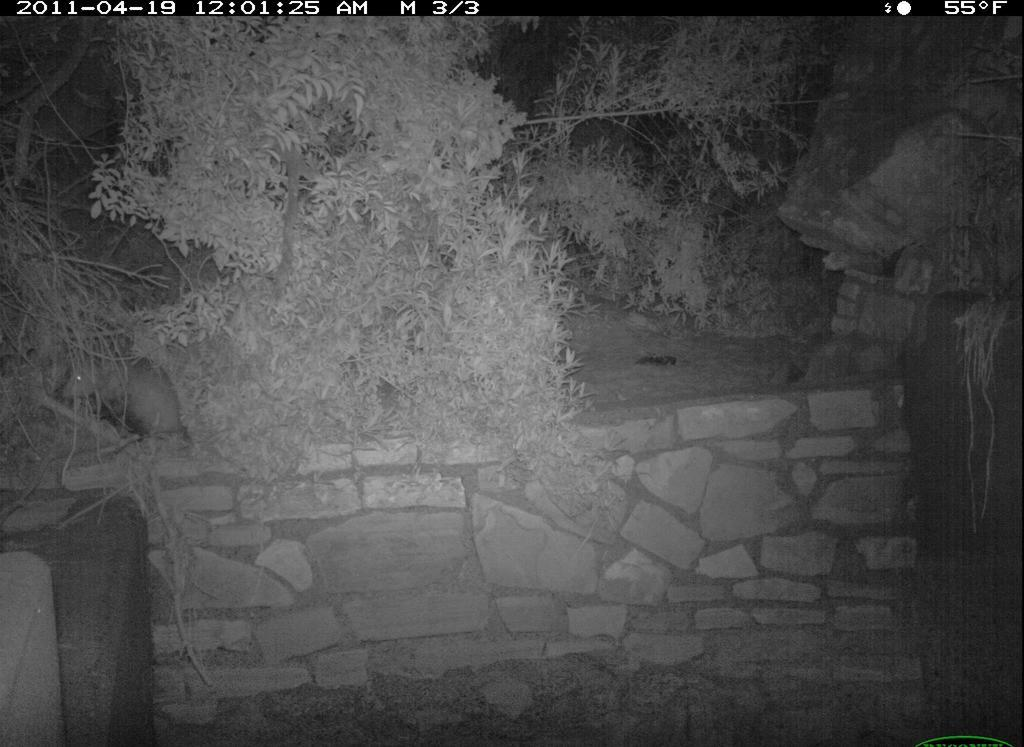opossum: (53, 344, 201, 460)
